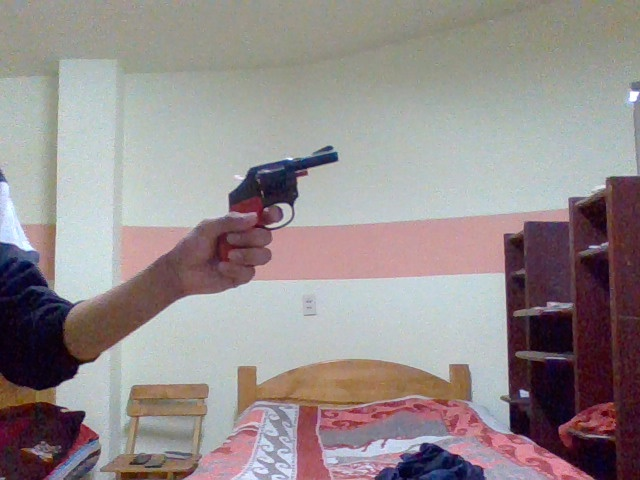pistola: (200, 132, 356, 277)
